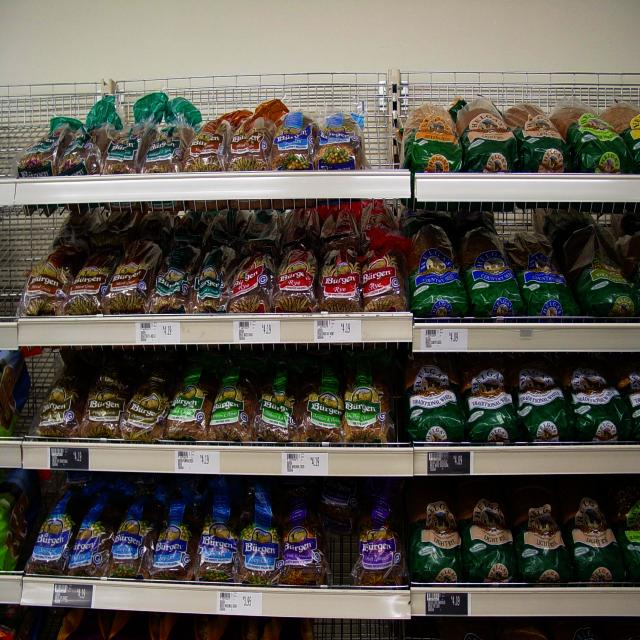empty_space: (0, 220, 67, 304), (4, 110, 47, 171), (365, 112, 390, 172)
